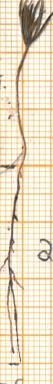flower: (2, 0, 53, 50)
root: (0, 166, 33, 365)
stem: (10, 47, 38, 168)
